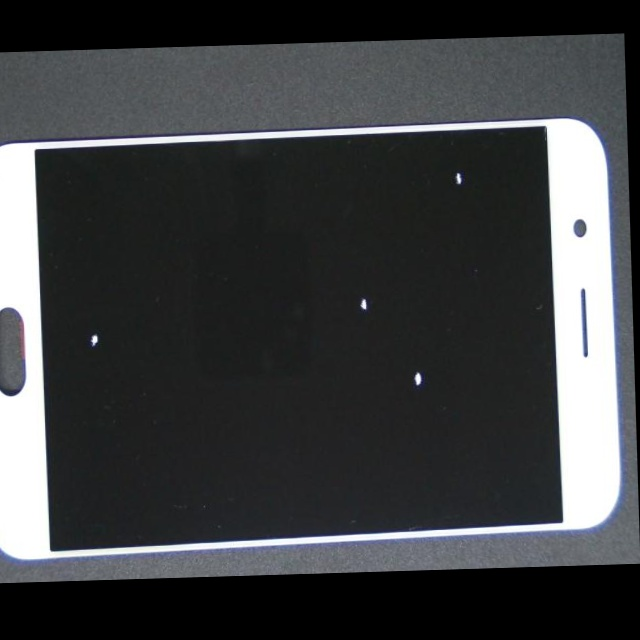stain: (194, 226, 640, 552), (185, 158, 605, 411), (219, 105, 630, 229), (37, 169, 182, 450)
